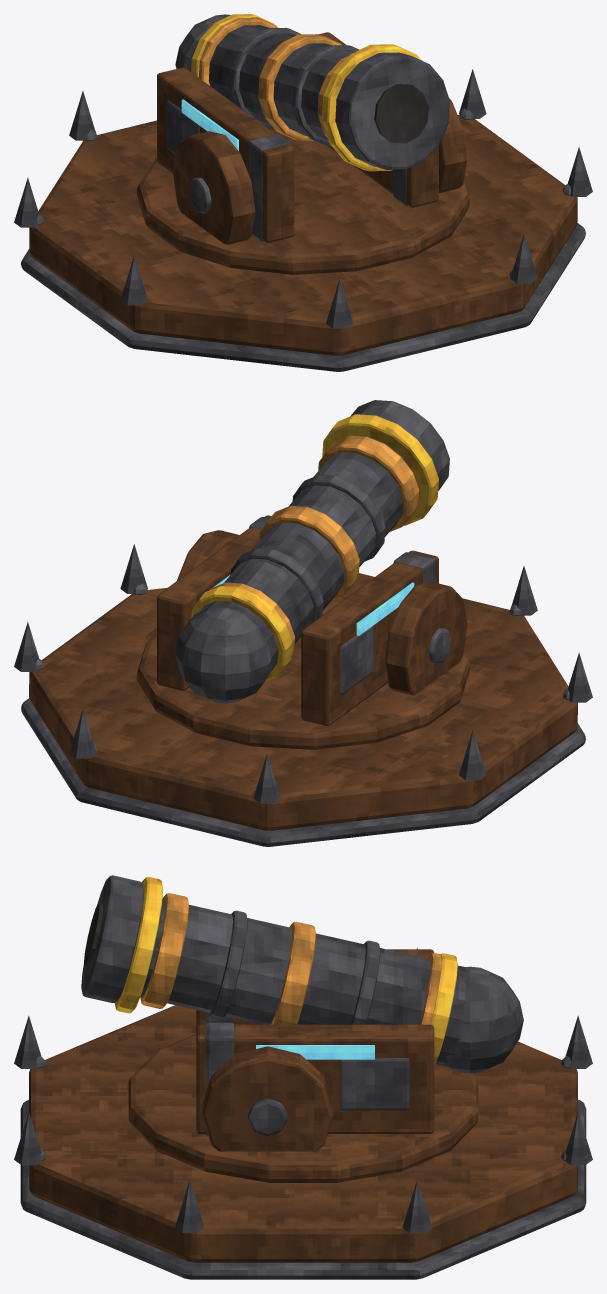
File: weapon_siege.gltf
3 renders of one model, top to bottom at view 1: azimuth 30°, elevation 25°; view 2: azimuth 150°, elevation 25°; view 3: azimuth 270°, elevation 25°, orthographic. The views are drawn at different scales.
Parts seen in each view (by area): view 1: Crown_wood, Crown_iron, Tier3_iron, Crown_brass, Tier4_gold, Crown_stone_dark, Tier2_iron, Tier4_rune; view 2: Crown_wood, Crown_iron, Tier3_iron, Tier4_gold, Crown_brass, Tier2_iron, Tier4_rune; view 3: Crown_wood, Crown_iron, Tier3_iron, Crown_brass, Tier4_gold, Tier2_iron, Tier4_rune, Crown_stone_dark.
Boxes of the visible parts, box(x1,y1,x2,y2) form: Crown_wood: box(29, 32, 577, 355); Crown_iron: box(21, 14, 585, 371); Tier3_iron: box(14, 28, 592, 328); Crown_brass: box(199, 17, 347, 141); Tier4_gold: box(191, 14, 421, 171); Crown_stone_dark: box(374, 84, 428, 143); Tier2_iron: box(37, 100, 570, 295); Tier4_rune: box(181, 99, 238, 150); Crown_wood: box(29, 515, 577, 830); Crown_iron: box(21, 400, 585, 846); Tier3_iron: box(14, 475, 592, 803); Tier4_gold: box(191, 414, 438, 681); Crown_brass: box(209, 435, 418, 656); Tier2_iron: box(36, 583, 569, 770); Tier4_rune: box(213, 575, 414, 635); Crown_wood: box(29, 949, 577, 1262); Crown_iron: box(20, 875, 586, 1279); Tier3_iron: box(14, 910, 592, 1233); Crown_brass: box(140, 893, 441, 1024); Tier4_gold: box(114, 877, 457, 1065); Tier2_iron: box(36, 1056, 576, 1160); Tier4_rune: box(256, 1045, 374, 1059); Crown_stone_dark: box(84, 903, 103, 966).
Size of the model in its own units: 0.9672 by 0.5227 by 0.9739.
Materials: 6 (6 with a texture image).
